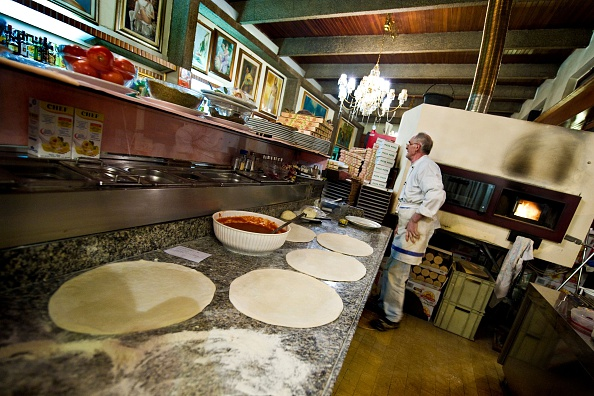em pe: (368, 120, 440, 324)
